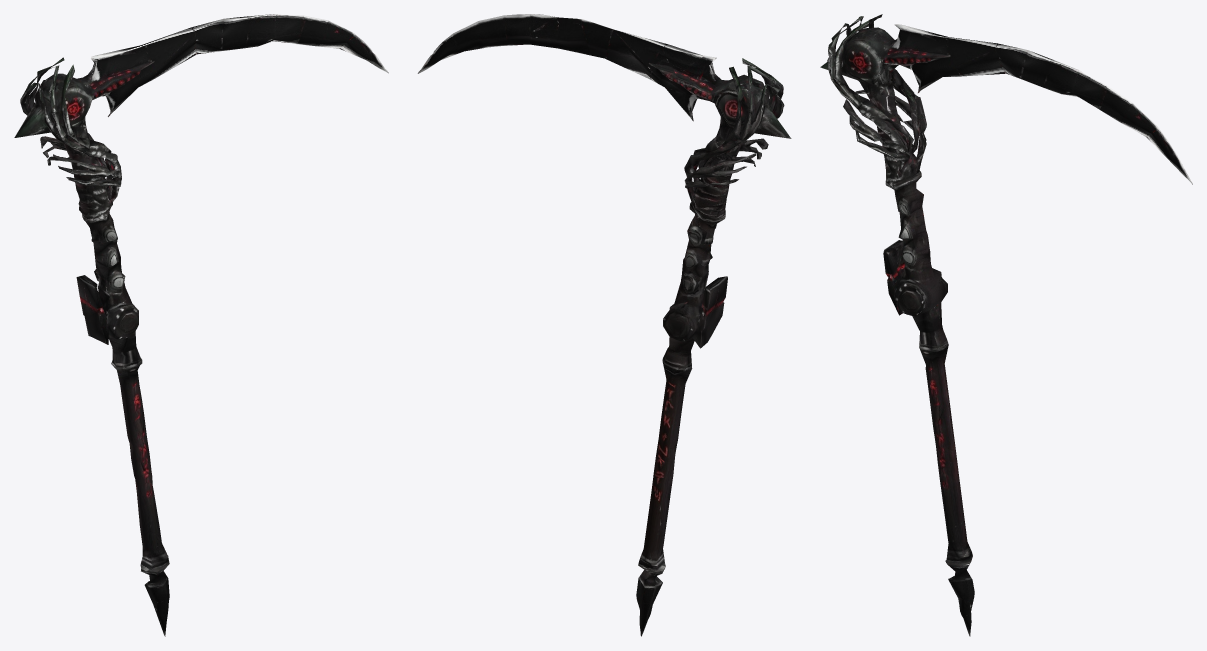
Rendered from 1703_scythe.glb.
The picture shows the model from 3 angles, left to right: view 1: azimuth 30°, elevation 25°; view 2: azimuth 150°, elevation 25°; view 3: azimuth 330°, elevation 25°; orthographic projection.
Parts seen in each view (by area): view 1: Model; view 2: Model; view 3: Model.
Boxes of the visible parts, x1=… form: Model: x1=14, y1=14, x2=388, y2=636; Model: x1=417, y1=14, x2=791, y2=636; Model: x1=820, y1=14, x2=1192, y2=636.
Bounding box in the file's own units: 0.6489 × 1 × 0.1225.
Materials: 1 (1 with a texture image).
